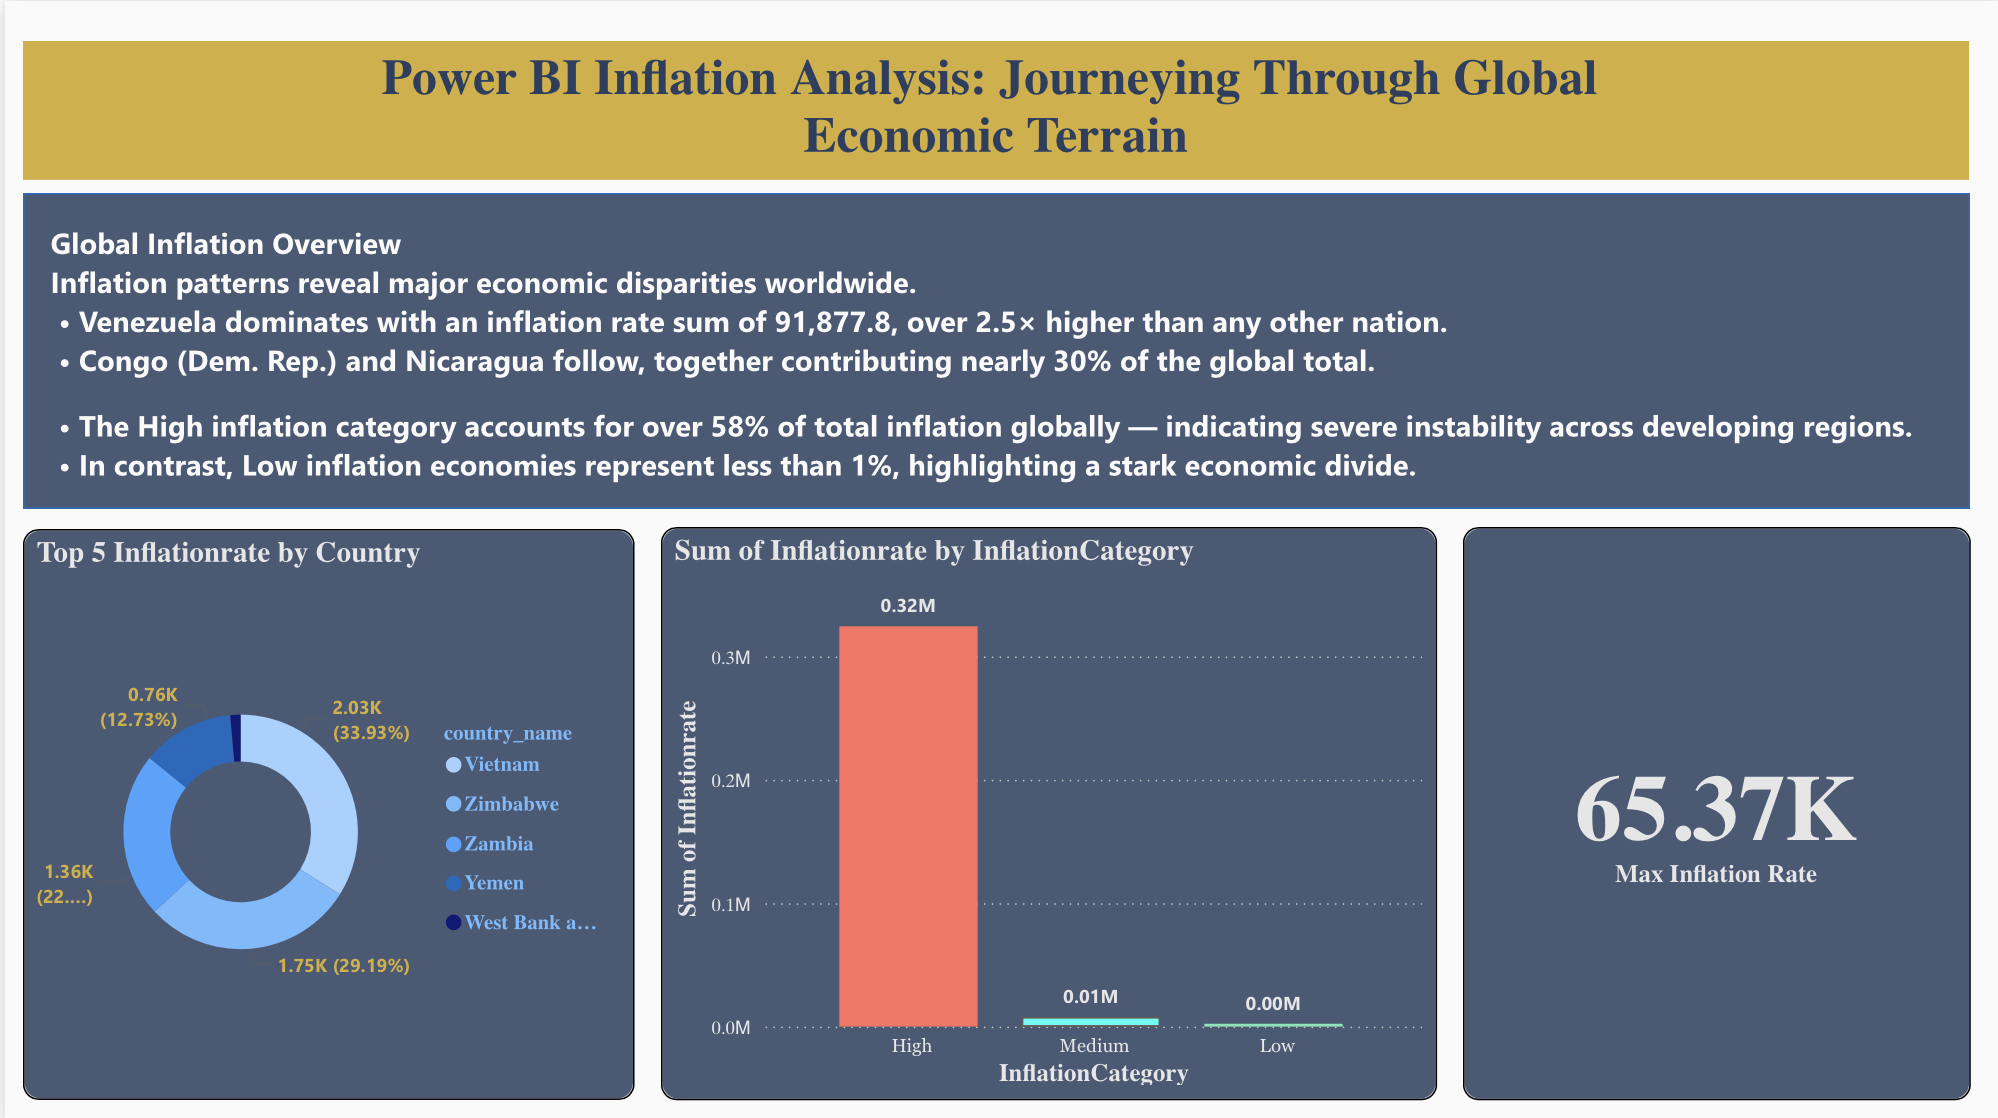

This screenshot's page, from the dashboard's own definition file:
{"tool":"powerbi","page":{"name":"Inflation Report","canvas":[1280,720],"ordinal":1},"visuals":[{"type":"shape","box":[11.4,122.8,1248.1,202.5],"z":0},{"type":"textbox","box":[11.1,25.4,1247.6,88.9],"z":1000},{"type":"textbox","box":[24.1,136.7,1216.5,177.2],"z":2000},{"type":"donutChart","title":"Top 5 Inflationrate by Country","fields":{"Category":["global_inflation_data.country_name"],"Y":["Sum(global_inflation_data.Inflationrate)"]},"box":[12,338,392,366],"z":3000},{"type":"clusteredColumnChart","fields":{"Category":["global_inflation_data.InflationCategory"],"Y":["Sum(global_inflation_data.Inflationrate)"]},"box":[420.9,337.2,497.7,367.4],"z":4000},{"type":"card","fields":{"Values":["global_inflation_data.Max Inflation Rate"]},"box":[934.9,337.2,325.6,367.4],"z":5000}]}

Visuals, with their boxes in screenshot pixels (x1, y1, x2, y2), scaled from the page's 1280x720 canvas onto the 1998x1118 screenshot:
shape: rect(18, 191, 1966, 505)
textbox: rect(17, 39, 1965, 177)
textbox: rect(38, 212, 1936, 487)
"Top 5 Inflationrate by Country" donutChart: rect(19, 525, 631, 1093)
clusteredColumnChart - global_inflation_data.InflationCategory x Sum(global_inflation_data.Inflationrate): rect(657, 524, 1434, 1094)
card - global_inflation_data.Max Inflation Rate: rect(1459, 524, 1968, 1094)
